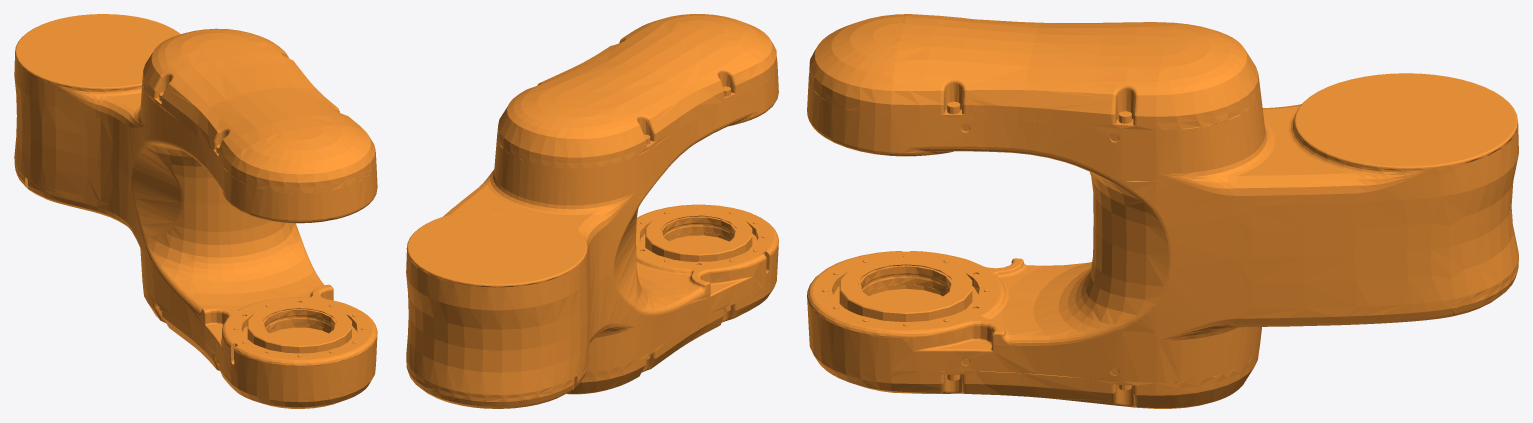
The model's file is linkhou_LR4_R560_link3_visual_vis_1.dae.
3 renders of one model, left to right at view 1: azimuth 30°, elevation 25°; view 2: azimuth 150°, elevation 25°; view 3: azimuth 270°, elevation 25°, orthographic. The views are drawn at different scales.
Visible parts, largest first — view 1: Node_0000029808437CA0; view 2: Node_0000029808437CA0; view 3: Node_0000029808437CA0.
Boxes of the visible parts, left/top/right/bottom form: Node_0000029808437CA0: left=14, top=14, right=377, bottom=408; Node_0000029808437CA0: left=406, top=14, right=778, bottom=408; Node_0000029808437CA0: left=807, top=14, right=1518, bottom=408.
Bounding box in the file's own units: 0.1256 × 0.1955 × 0.3702.
